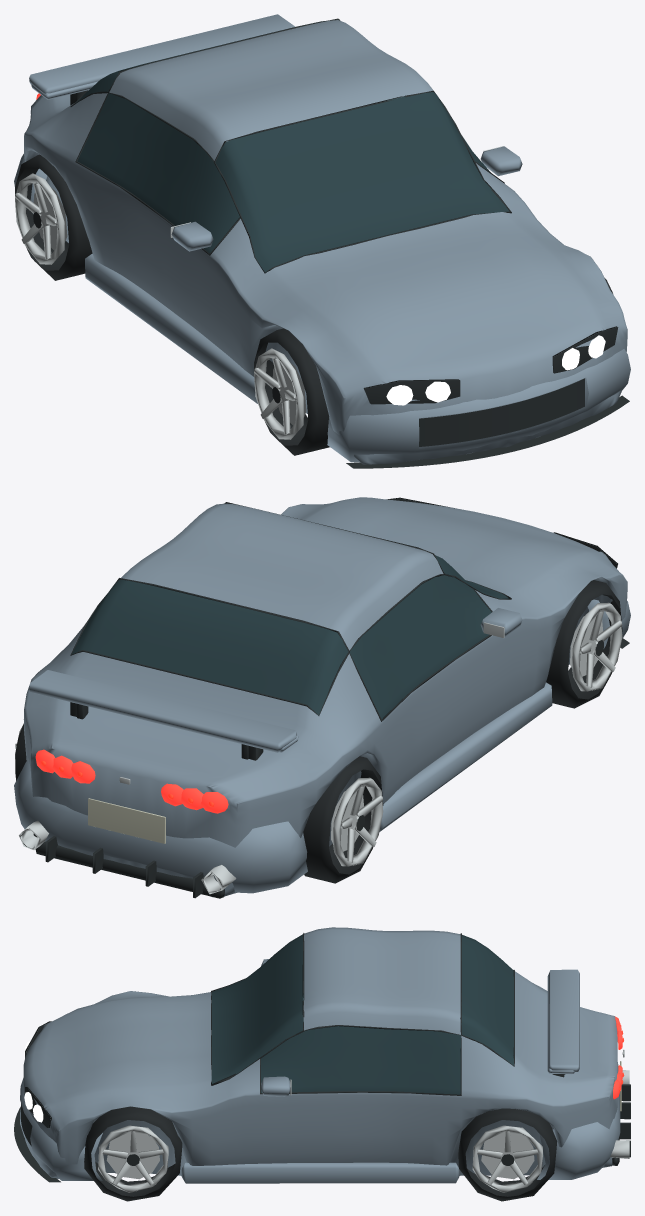
File: ossyra-ossyn.glb
3 views of the same model, one above another, from view 1: azimuth 30°, elevation 25°; view 2: azimuth 150°, elevation 25°; view 3: azimuth 270°, elevation 25° (orthographic). The views are drawn at different scales.
Parts seen in each view (by area): view 1: cofano, cristallo_ant, scocca, tetto, cristallo_sx, porta_sx, paraurti_ant, minigonna_sx, spoiler, griglia, ruota_ant_sx_gomma, ruota_post_sx_gomma (+15 smaller); view 2: scocca, tetto, cristallo_post, portellone, cofano, paraurti_post, porta_sx, cristallo_sx, spoiler, minigonna_sx, ruota_post_sx_gomma, ruota_ant_sx_gomma (+13 smaller); view 3: scocca, tetto, cofano, porta_dx, cristallo_dx, cristallo_ant, portellone, minigonna_dx, cristallo_post, spoiler, paraurti_post, ruota_ant_dx_gomma (+13 smaller).
Boxes of the visible parts, <box> form: cofano: <box>265,212,603,374</box>; cristallo_ant: <box>215,92,509,272</box>; scocca: <box>24,93,627,464</box>; tetto: <box>109,20,436,160</box>; cristallo_sx: <box>77,93,239,253</box>; porta_sx: <box>75,163,224,352</box>; paraurti_ant: <box>327,349,630,462</box>; minigonna_sx: <box>85,253,257,403</box>; spoiler: <box>29,14,295,93</box>; griglia: <box>419,378,584,446</box>; ruota_ant_sx_gomma: <box>254,328,329,455</box>; ruota_post_sx_gomma: <box>15,154,92,280</box>; scocca: <box>23,499,627,897</box>; tetto: <box>121,503,443,650</box>; cristallo_post: <box>71,579,348,715</box>; portellone: <box>46,652,318,791</box>; cofano: <box>300,497,602,599</box>; paraurti_post: <box>14,758,307,893</box>; porta_sx: <box>372,630,514,803</box>; cristallo_sx: <box>349,575,491,719</box>; spoiler: <box>29,670,296,752</box>; minigonna_sx: <box>379,682,552,831</box>; ruota_post_sx_gomma: <box>303,756,383,883</box>; ruota_ant_sx_gomma: <box>546,580,622,708</box>; scocca: <box>23,983,617,1178</box>; tetto: <box>303,927,460,1034</box>; cofano: <box>45,992,211,1108</box>; porta_dx: <box>245,1092,461,1175</box>; cristallo_dx: <box>261,1026,460,1094</box>; cristallo_ant: <box>211,934,303,1083</box>; portellone: <box>514,971,617,1088</box>; minigonna_dx: <box>181,1162,459,1183</box>; cristallo_post: <box>461,935,513,1065</box>; spoiler: <box>548,969,579,1072</box>; paraurti_post: <box>537,1062,620,1179</box>; ruota_ant_dx_gomma: <box>84,1106,182,1201</box>.
Bounding box in the file's own units: 2.06 × 1.34 × 4.2.
